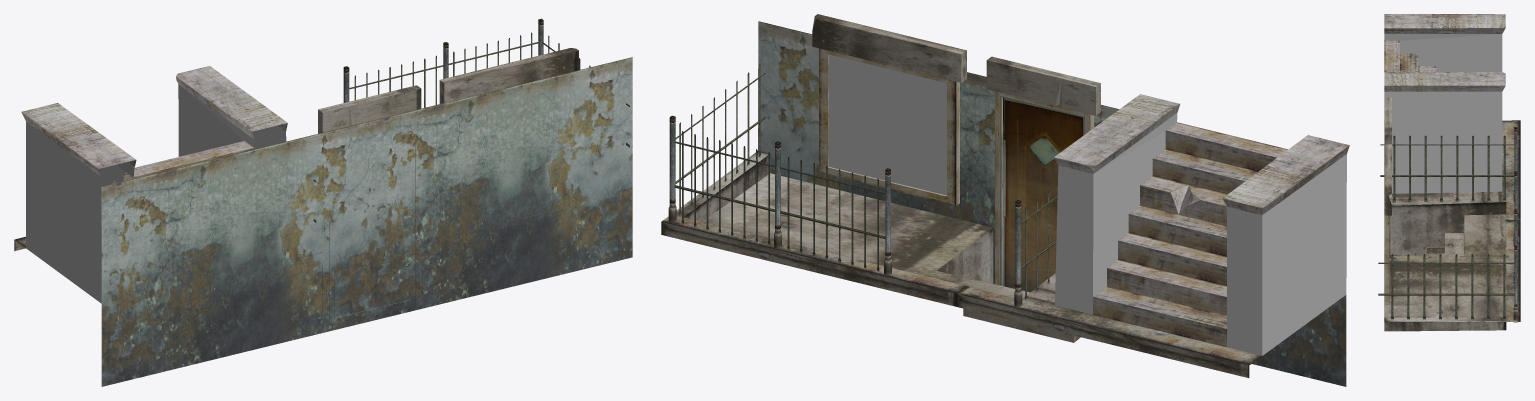
Rendered from Trottoir_01.fbx.
3 views of the same model, side by side, from view 1: azimuth 30°, elevation 25°; view 2: azimuth 150°, elevation 25°; view 3: azimuth 270°, elevation 25° (orthographic). The views are drawn at different scales.
Parts seen in each view (by area): view 1: Trottoir_01; view 2: Trottoir_01; view 3: Trottoir_01.
Boxes of the visible parts, left/top/right/bottom form: Trottoir_01: left=14, top=18, right=632, bottom=386; Trottoir_01: left=661, top=14, right=1349, bottom=386; Trottoir_01: left=1378, top=14, right=1520, bottom=331.
Bounding box in the file's own units: 704 × 277 × 209.
